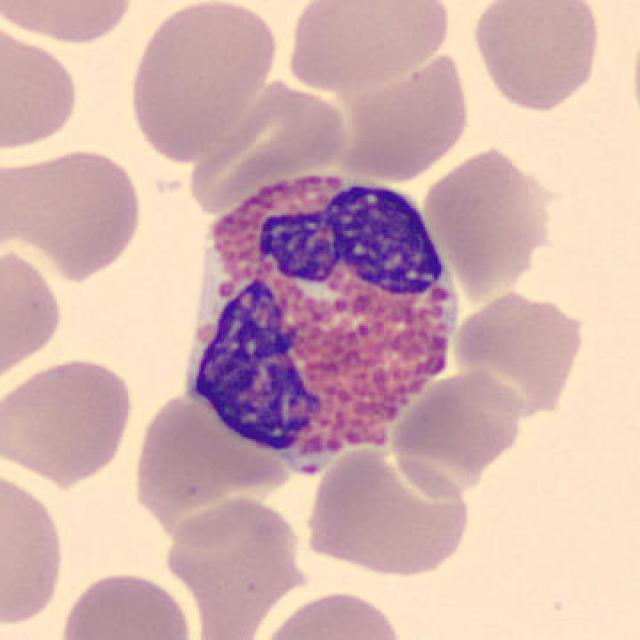Eosinophil: (173, 153, 471, 494)
RBC: (123, 0, 279, 164), (298, 441, 476, 582), (128, 383, 293, 520), (420, 141, 558, 296), (3, 144, 148, 280), (388, 362, 528, 496), (332, 48, 474, 180), (0, 352, 137, 487), (452, 295, 584, 421), (281, 0, 455, 93), (156, 494, 308, 600), (468, 0, 604, 115), (0, 463, 69, 633), (0, 18, 84, 157), (55, 566, 197, 640), (0, 240, 68, 388), (254, 587, 411, 640), (2, 0, 138, 48)
